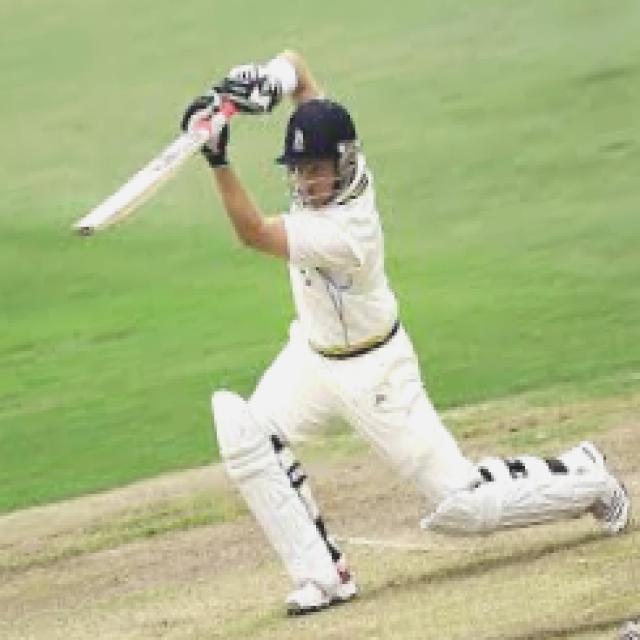bat: (65, 116, 219, 245)
toe: (65, 215, 106, 244)
